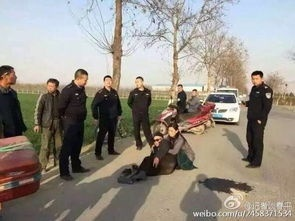falling: (118, 124, 177, 186)
